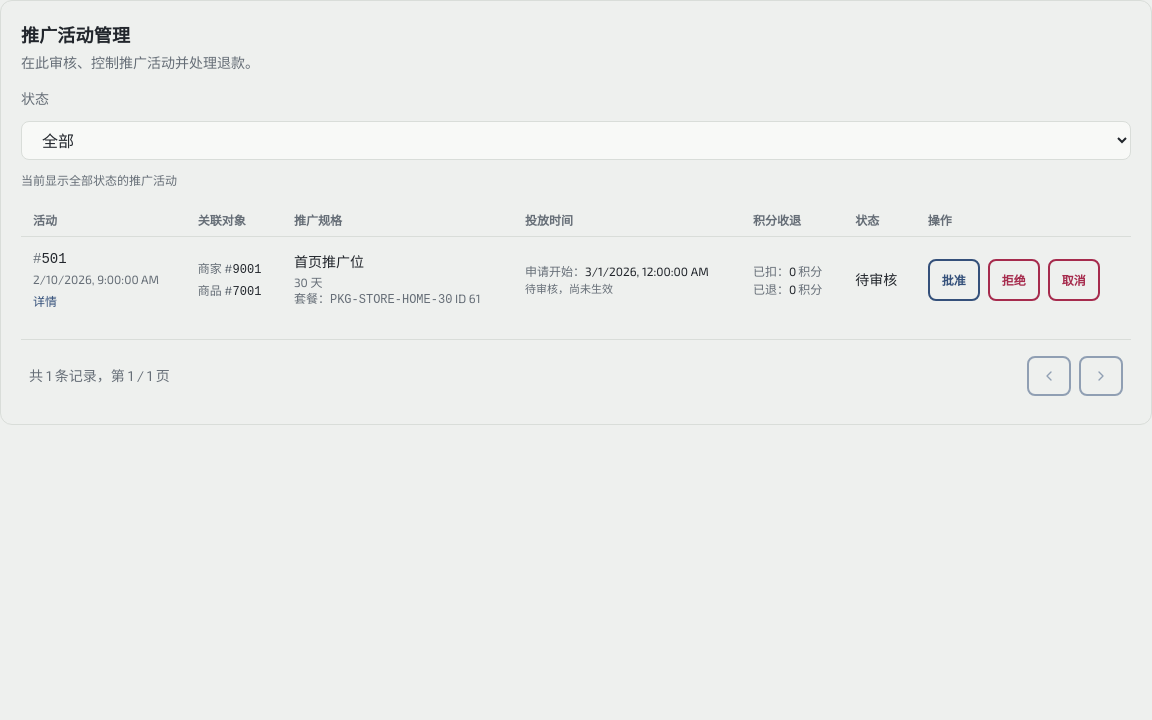
Test: AdminPromotionCampaignManager (action visibility + approve/reject) › approve CAMPAIGN_TRANSITION_INVALID shows the exact state-conflict copy without faking success or refreshing
Expected: the table named "推广活动列表" is shown, left=21, top=204, right=1131, bottom=323
Click the button with aria-label "批准推广活动（活动 ID 501）" at (954, 280), box left=928, top=259, right=980, bottom=301
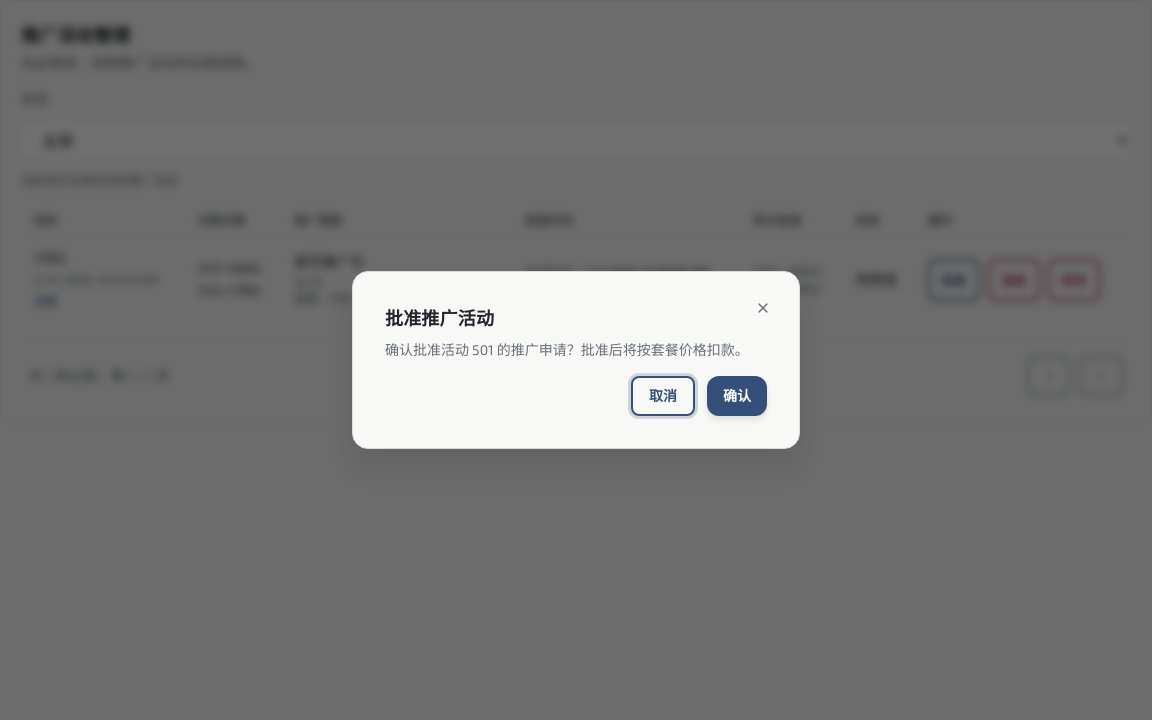
Click the button "确认" at (737, 396), box left=707, top=376, right=767, bottom=416
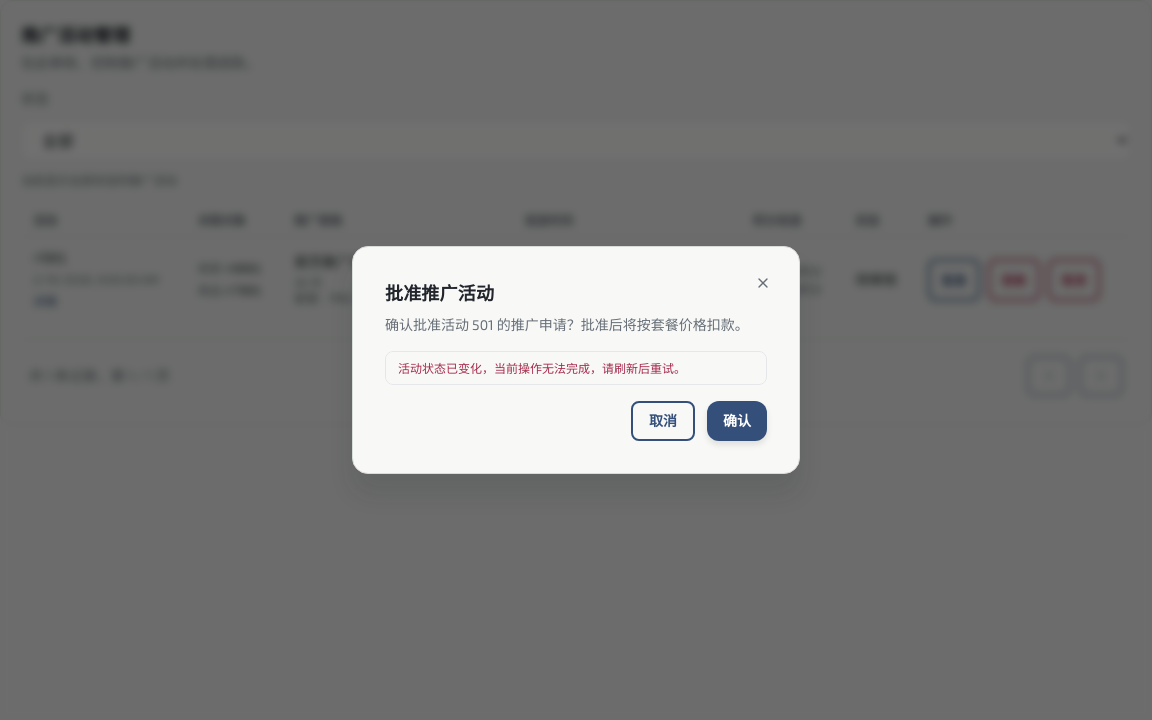
Expected: the dialog "批准推广活动" is shown, left=352, top=246, right=800, bottom=474
Expected: the text "活动状态已变化，当前操作无法完成，请刷新后重试。" is shown, left=385, top=351, right=767, bottom=385
Expected: the message reads "活动状态已变化，当前操作无法完成，请刷新后重试。", left=398, top=361, right=686, bottom=375
